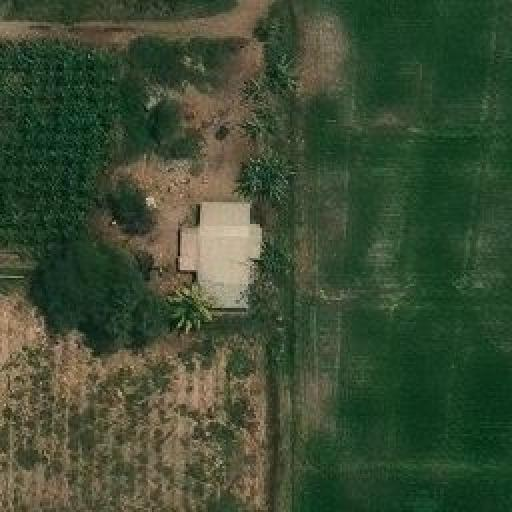manzanas: (175, 193, 259, 315)
